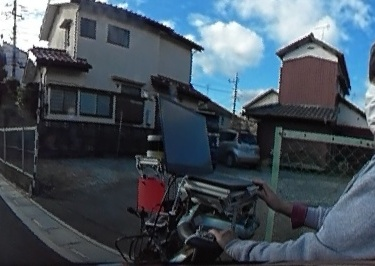person: (228, 30, 375, 257)
